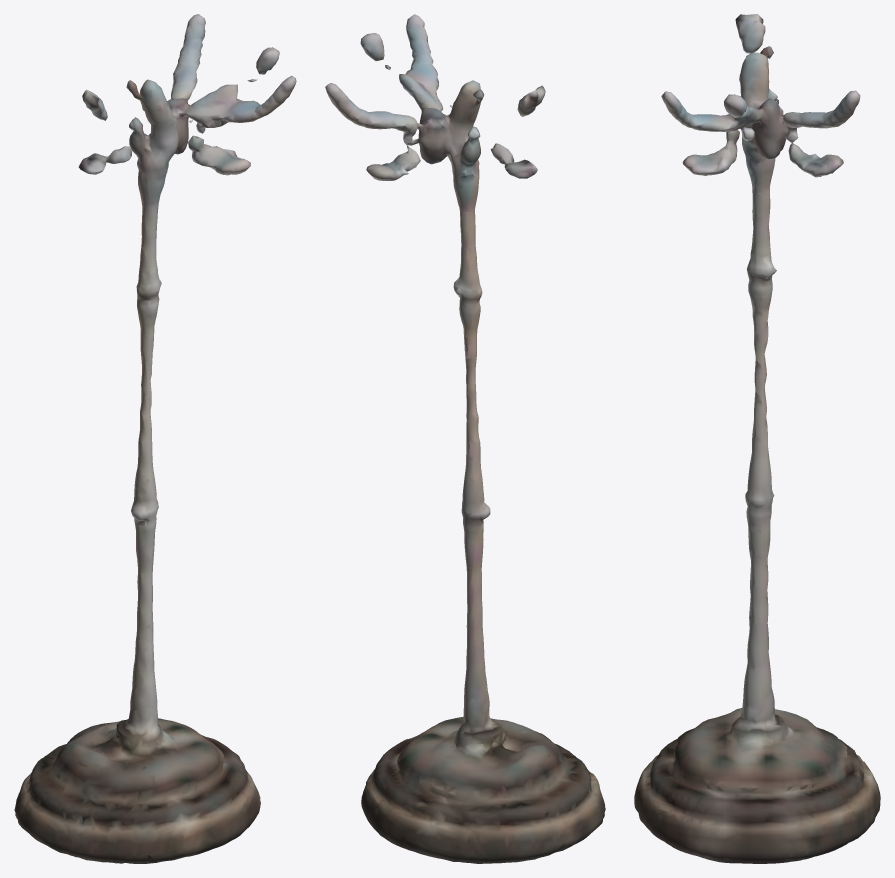
3 views of the same model, side by side, from view 1: azimuth 30°, elevation 25°; view 2: azimuth 150°, elevation 25°; view 3: azimuth 270°, elevation 25° (orthographic). The views are drawn at different scales.
Visible parts, largest first — view 1: geometry_0; view 2: geometry_0; view 3: geometry_0.
Part boxes in pixels (x1,y1,x2,y2): geometry_0: (14, 14, 296, 863); geometry_0: (325, 14, 605, 863); geometry_0: (634, 14, 880, 863).
Bounding box in the file's own units: 0.5945 × 1.8 × 0.5103.
